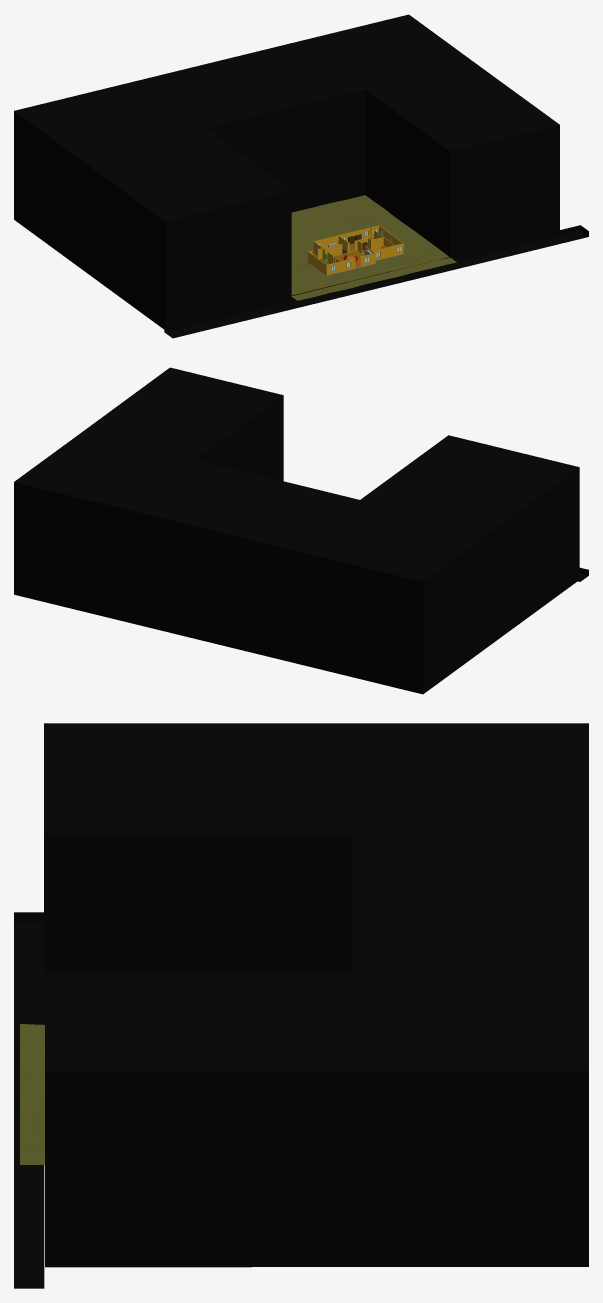
The model's file is blocking v2.fbx.
3 renders of one model, top to bottom at view 1: azimuth 30°, elevation 25°; view 2: azimuth 150°, elevation 25°; view 3: azimuth 270°, elevation 25°, orthographic. The views are drawn at different scales.
Visible parts, largest first — view 1: Plane; view 2: Plane; view 3: Plane.
Part boxes in pixels (left/top/right/bottom): Plane: left=14, top=14, right=588, bottom=338; Plane: left=14, top=367, right=588, bottom=694; Plane: left=14, top=723, right=588, bottom=1288.
Bounding box in the file's own units: 12847 × 3265 × 8527.
